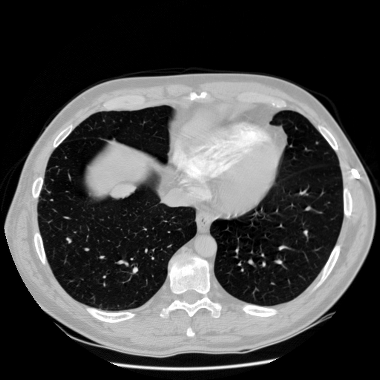nodule: (115, 183, 129, 197)
